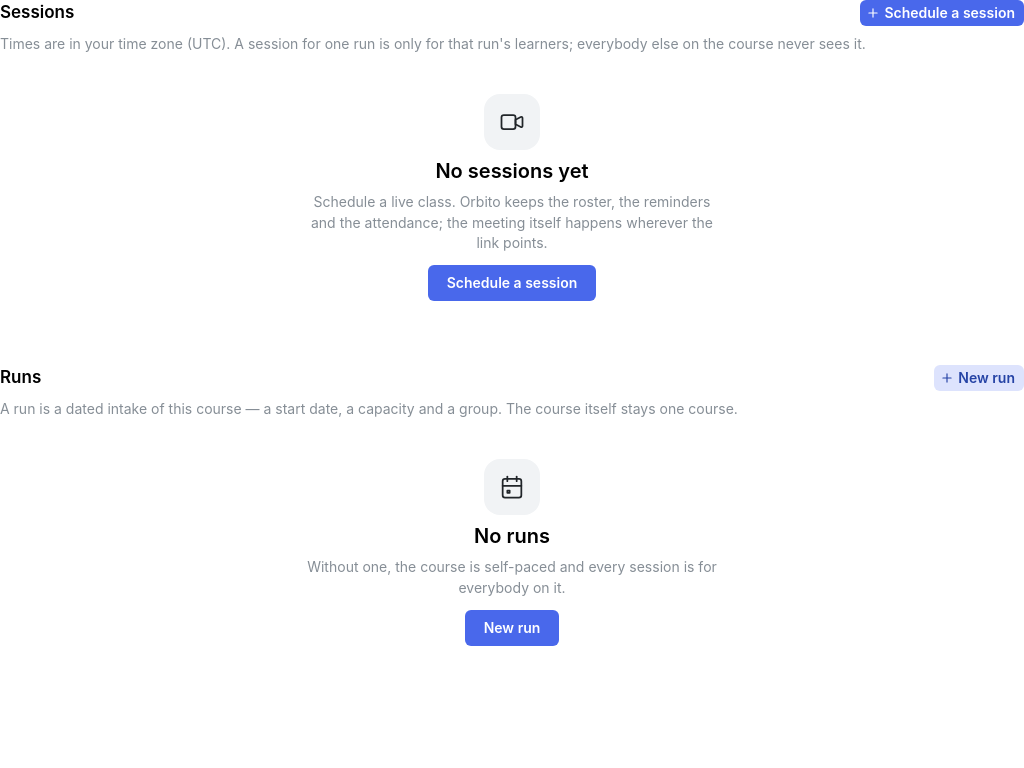
Scenario: LiveManager › refuses to schedule a session that ends before it starts, before any round trip
Click the 1st button "Schedule a session" at (942, 13), box top-left (860, 0), bottom-right (1023, 26)
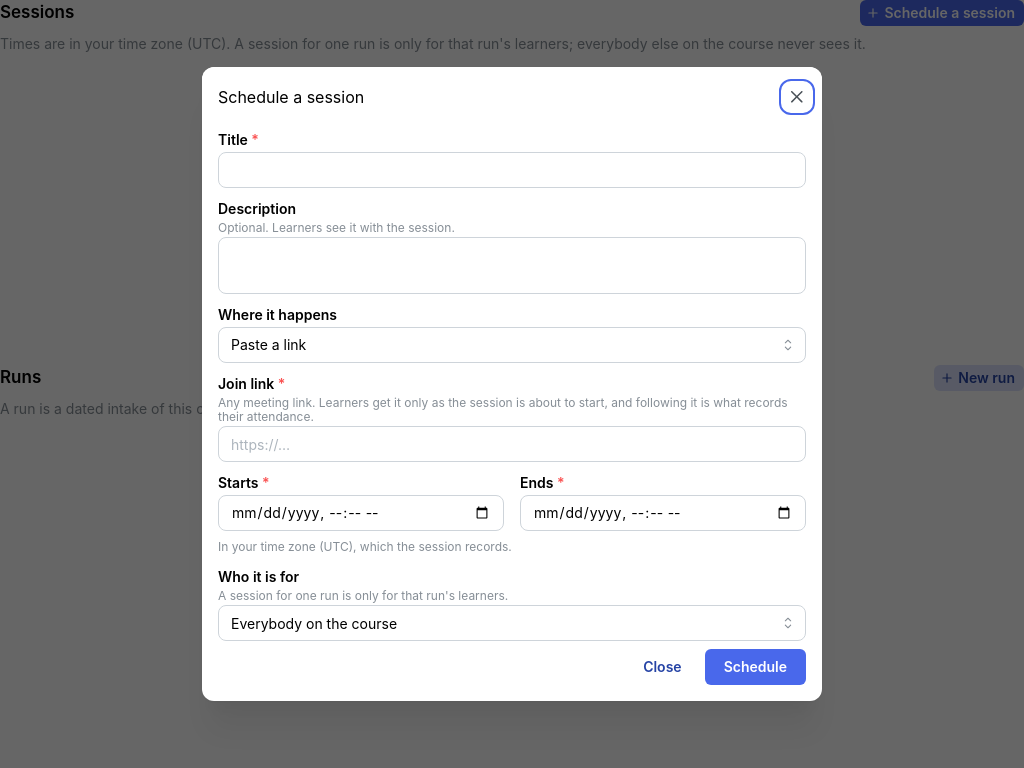
Type "Backwards" into the field labelled "Title *" at (512, 170), box top-left (218, 152), bottom-right (806, 188)
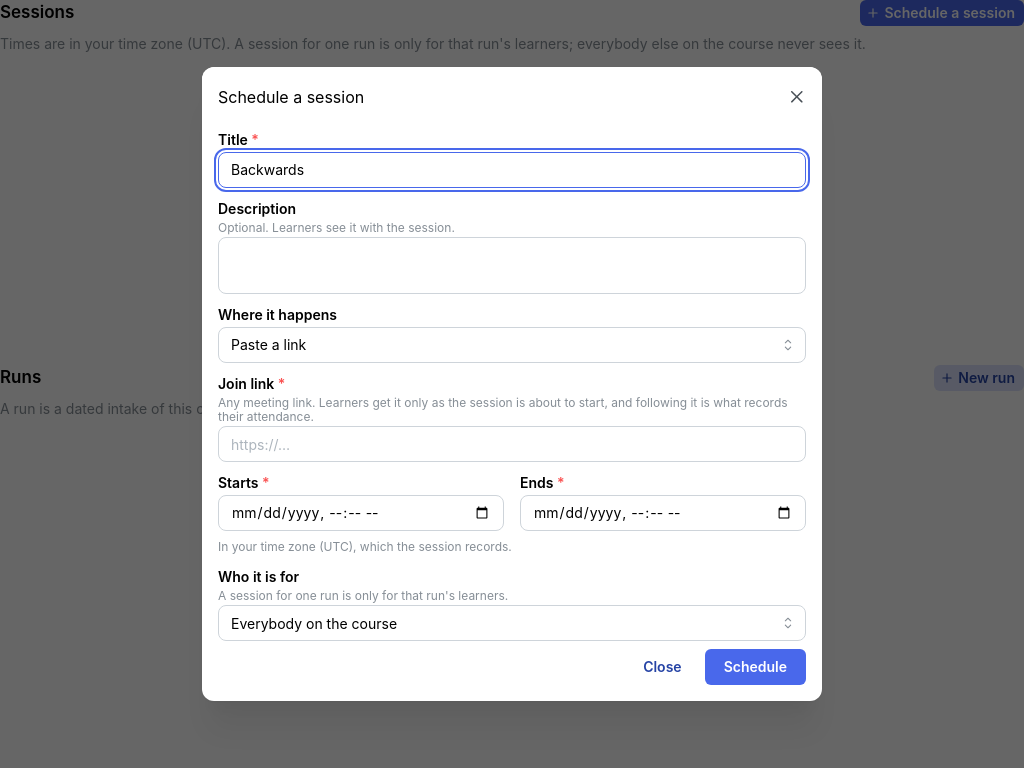
Type "https://meet.example.test/abc" into the field labelled "Join link *" at (512, 444), box top-left (218, 426), bottom-right (806, 462)
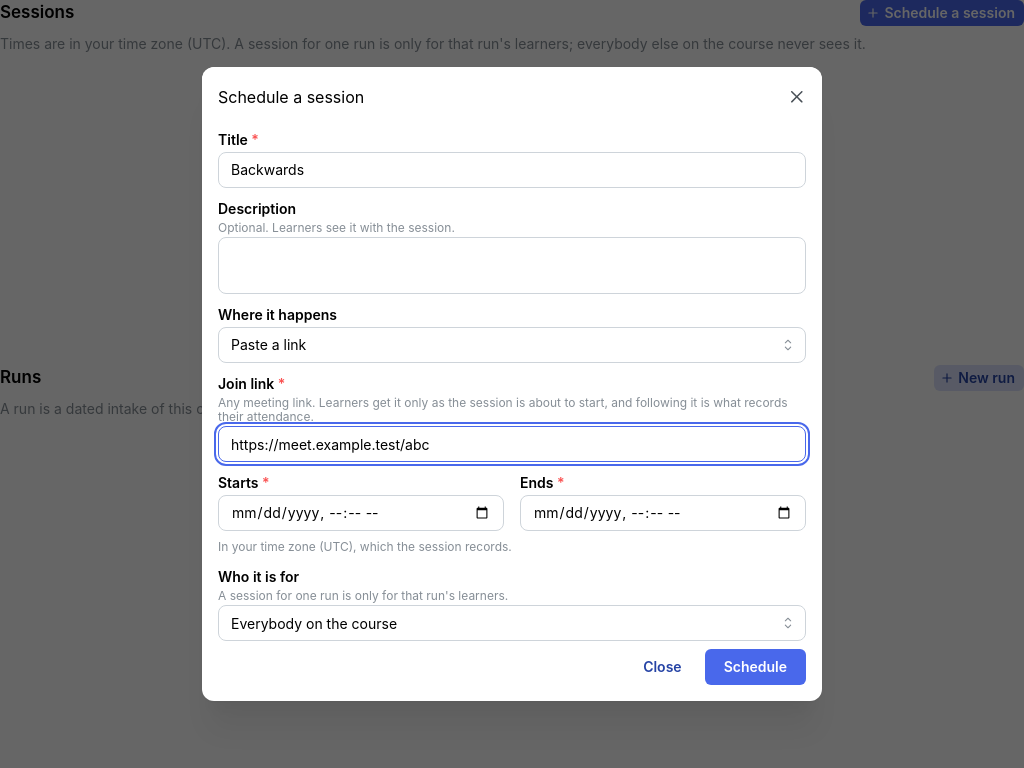
Type "2026-10-01T20:00" into the field labelled "Starts *" at (361, 513), box top-left (218, 495), bottom-right (504, 531)
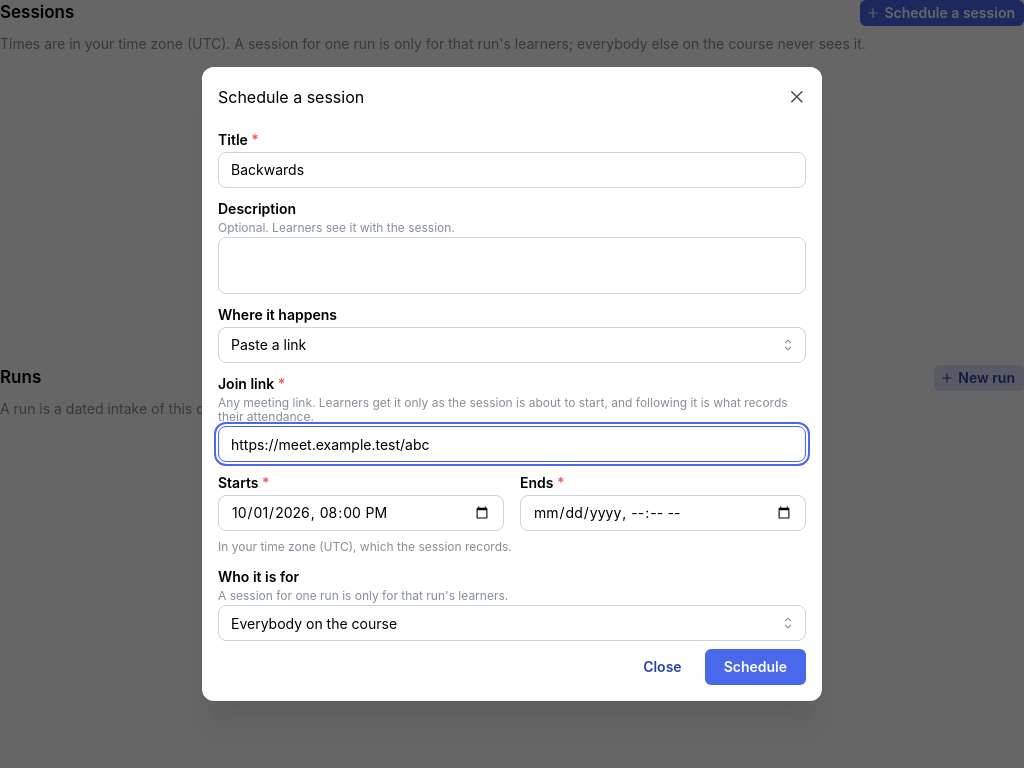
Type "2026-10-01T19:00" into the field labelled "Ends *" at (663, 513), box top-left (520, 495), bottom-right (806, 531)
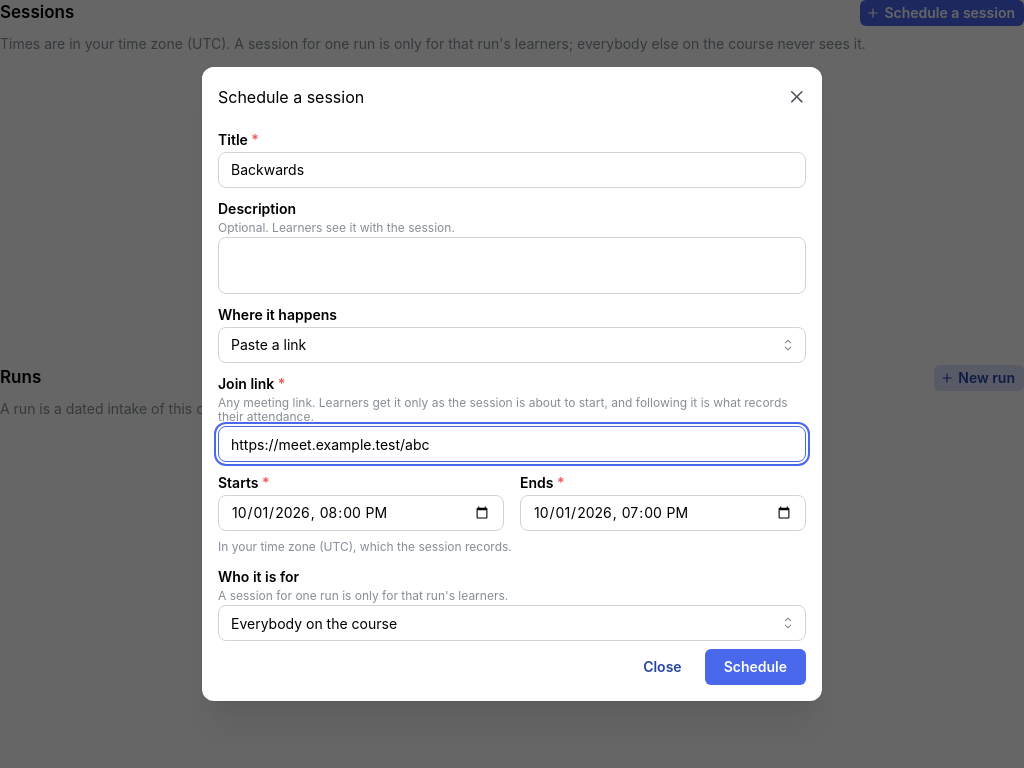
Click the button "Schedule" at (755, 667), box top-left (705, 649), bottom-right (806, 685)
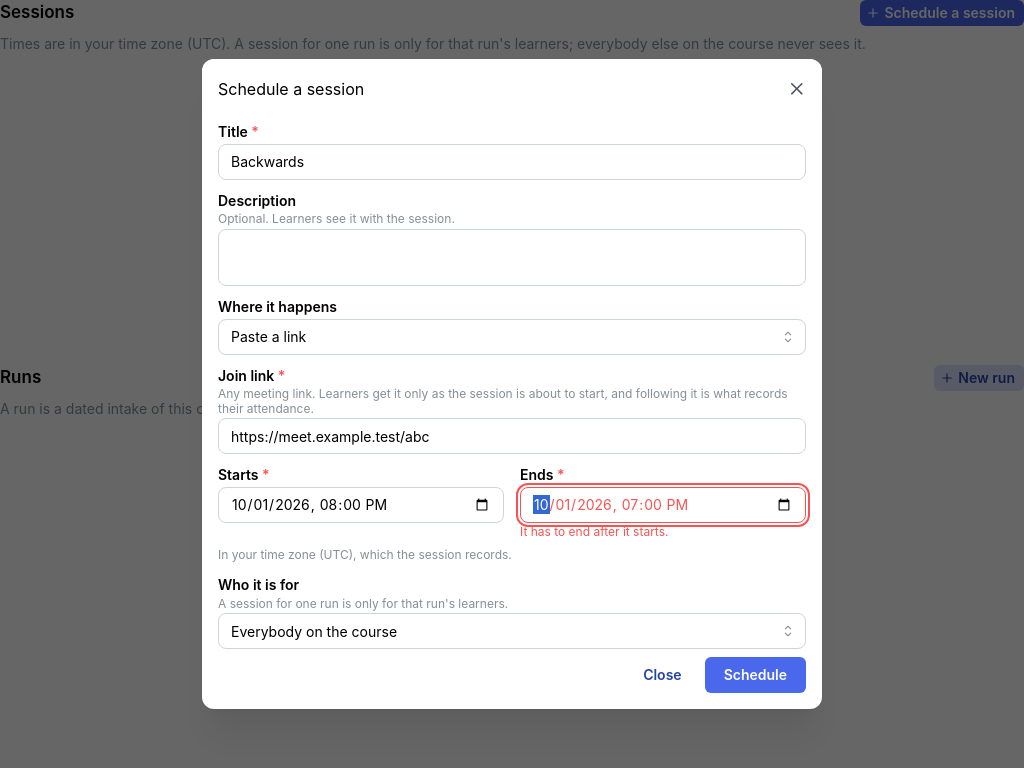
Expected: the text "It has to end after it starts." is shown, top-left (520, 524), bottom-right (668, 539)
